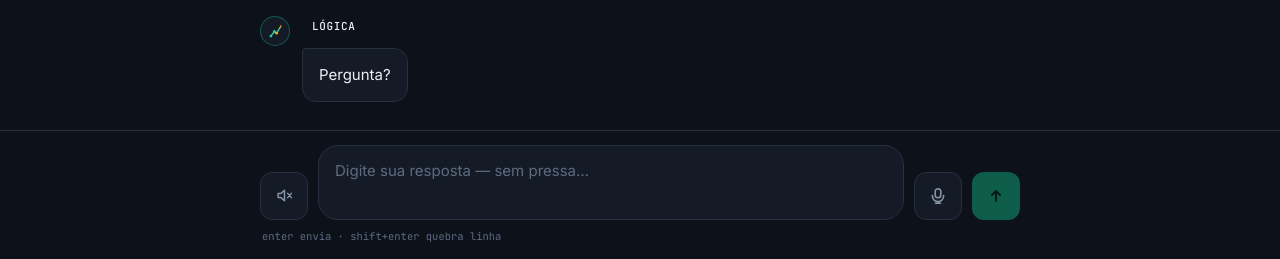
it: InterviewPage — gravação por voz › iniciar gravação cria recognizer e marca recording true
Expected: the text "Pergunta?" is shown, [302, 48, 408, 102]
Click the button named "responder por voz": (938, 196) [914, 172, 962, 220]
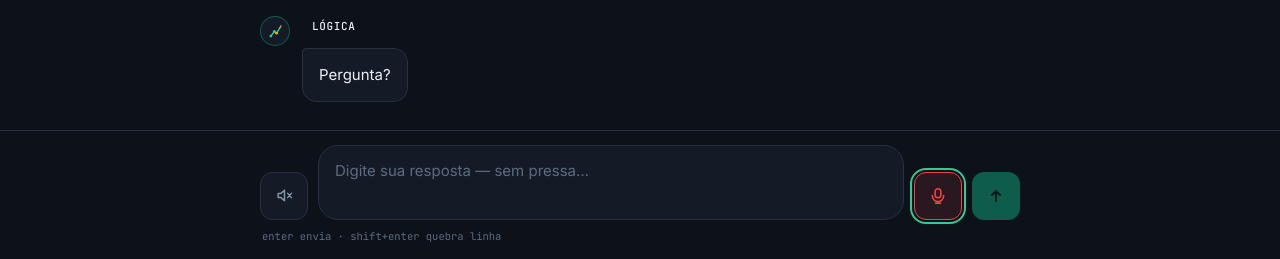
Result: the button named "parar gravação" is shown at [914, 172, 962, 220]
